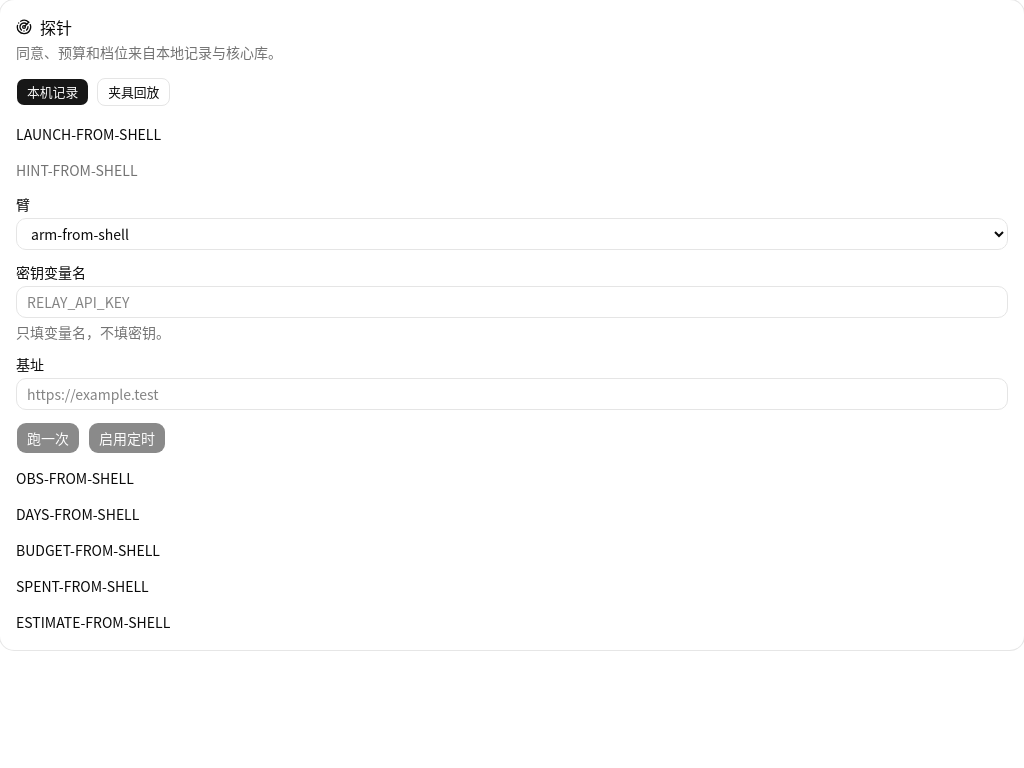
Test: hides 跑一次 on the fixture source
Expected: the button "跑一次" is shown, 16,422 -> 80,454
Click the button "夹具回放" at (134, 92), box 97,78 -> 170,106
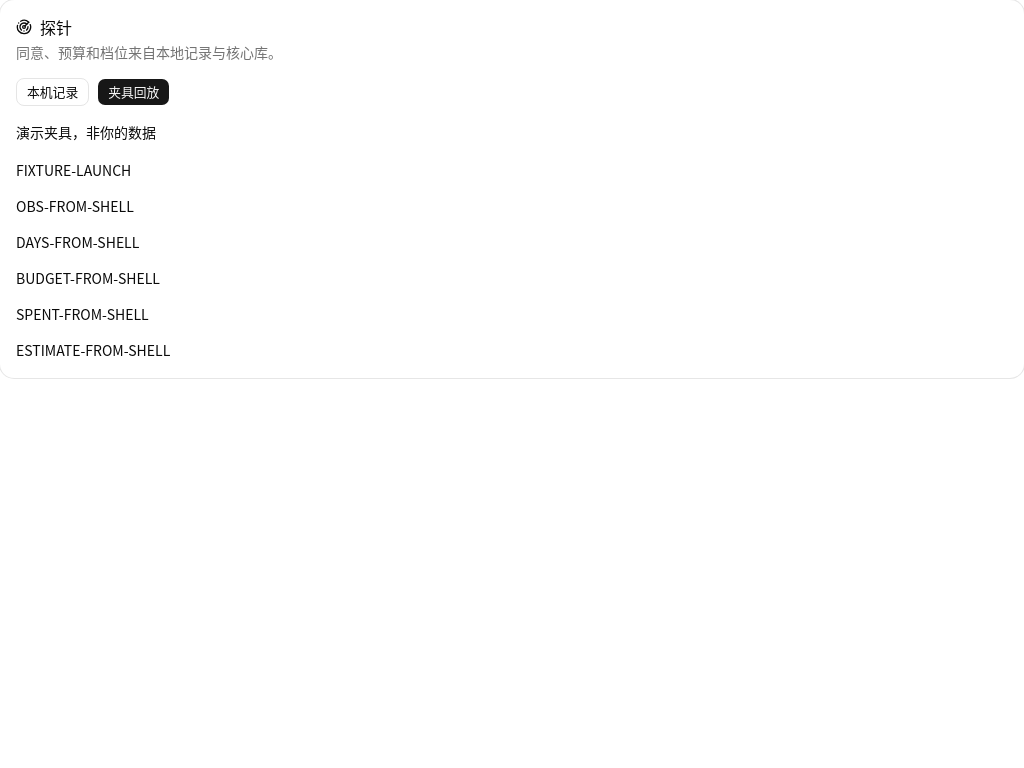
Expected: the text "FIXTURE-LAUNCH" is shown, 16,160 -> 131,180
Expected: the text "演示夹具，非你的数据" is shown, 16,122 -> 156,142
Expected: the button "跑一次" is gone
